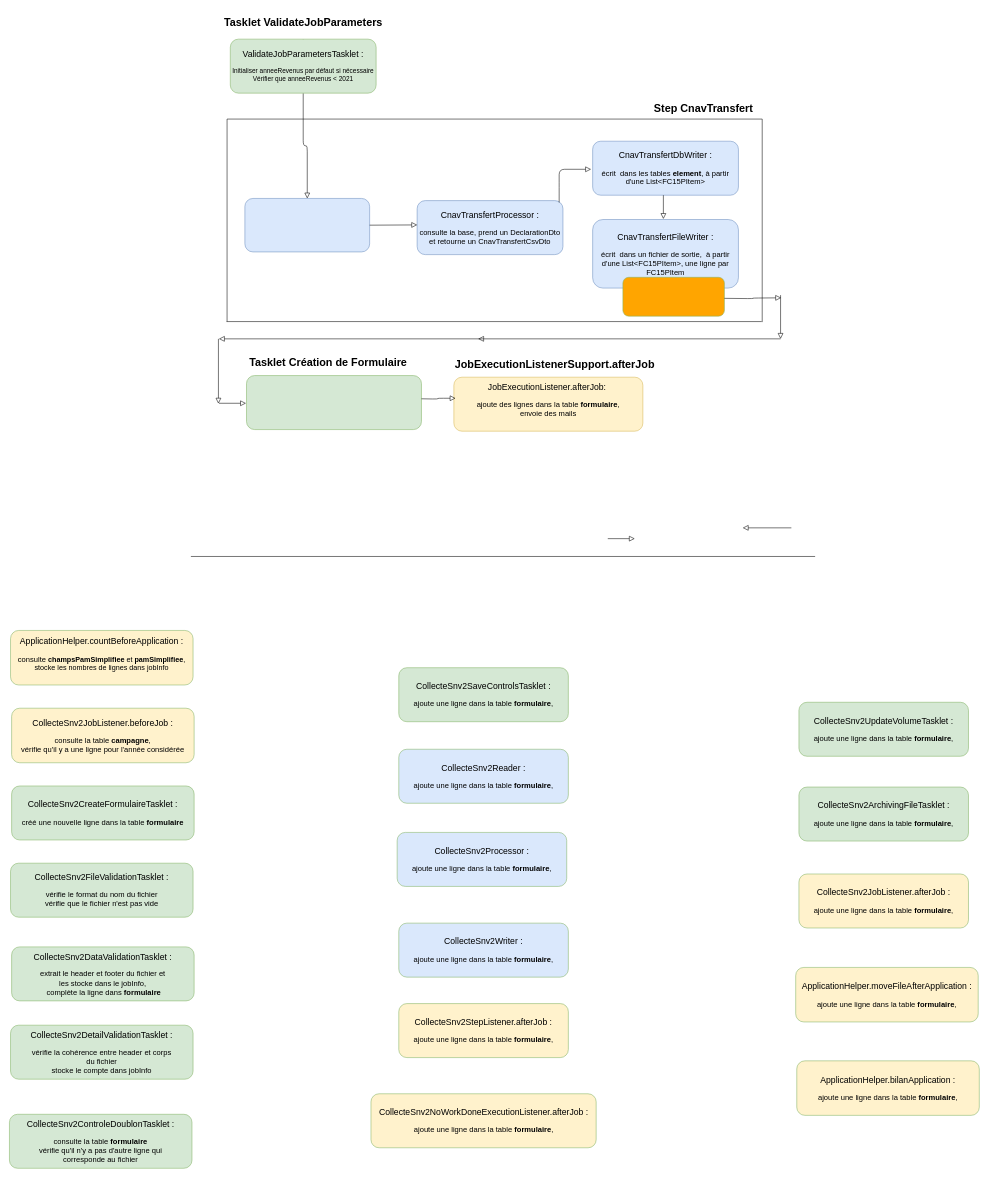
Image size: 989x1178. Some labels were removed from this diagram. The box of each missing label's shape, as (x1, y1, x2, y2) in pixels:
CnavCsvCallBackWriter: met un header & footer dans le fichier de sortie: (622, 277, 724, 316)
CnavTransfertReader : consulte la base, retourne un DeclarationDto: (244, 198, 370, 252)
CreationFormulaireTasklet : ajoute une ligne dans la table formulaire ,: (246, 375, 421, 430)
